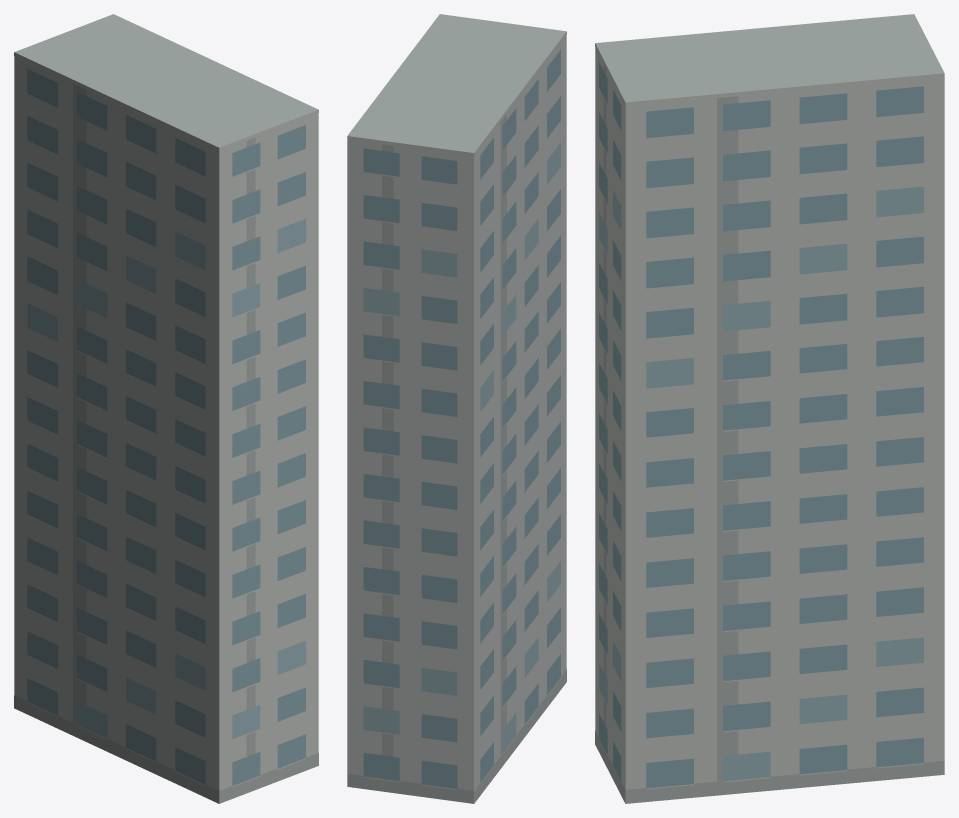
Rendered from residential-37d59d68-99f8-459a-aca1-1a625b2e9b04.glb.
3 renders of one model, left to right at view 1: azimuth 30°, elevation 25°; view 2: azimuth 150°, elevation 25°; view 3: azimuth 270°, elevation 25°, orthographic. The views are drawn at different scales.
Visible parts, largest first — view 1: residential-37d59d68-99f8-459a-aca1-1a625b2e9b04.tmp; view 2: residential-37d59d68-99f8-459a-aca1-1a625b2e9b04.tmp; view 3: residential-37d59d68-99f8-459a-aca1-1a625b2e9b04.tmp.
Part boxes in pixels (x1=…): residential-37d59d68-99f8-459a-aca1-1a625b2e9b04.tmp: x1=14, y1=14, x2=318, y2=803; residential-37d59d68-99f8-459a-aca1-1a625b2e9b04.tmp: x1=347, y1=14, x2=566, y2=803; residential-37d59d68-99f8-459a-aca1-1a625b2e9b04.tmp: x1=595, y1=14, x2=944, y2=803.
Size of the model in its own units: 11.56 by 42.7 by 19.29.
